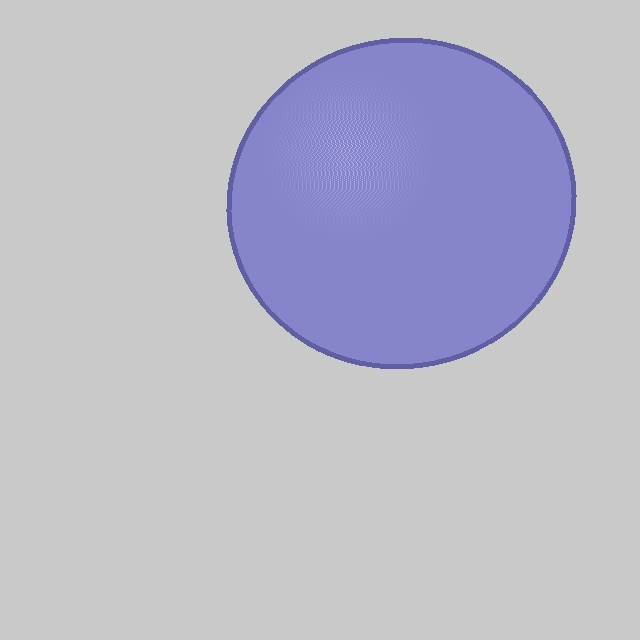lens: (229, 40, 573, 366)
